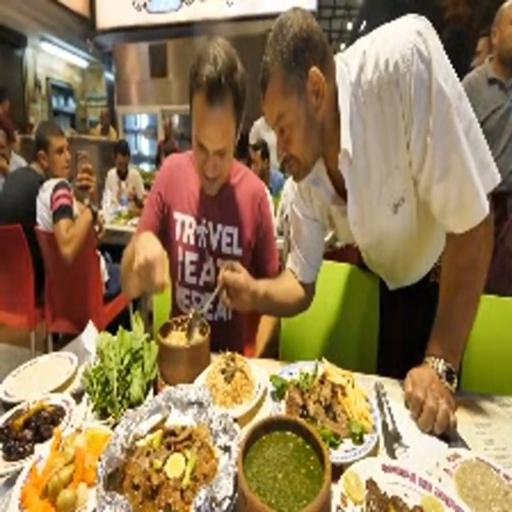nao-violencia: (112, 5, 507, 416)
